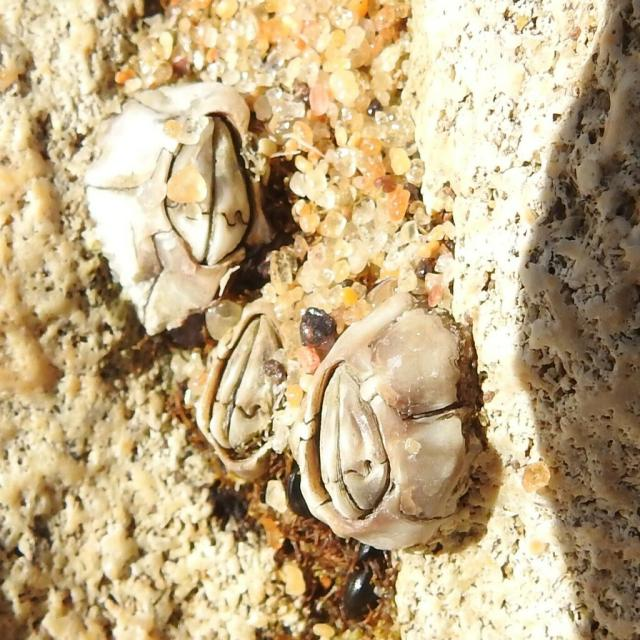barnacles: (293, 306, 474, 557), (87, 64, 267, 310), (186, 286, 300, 484)
